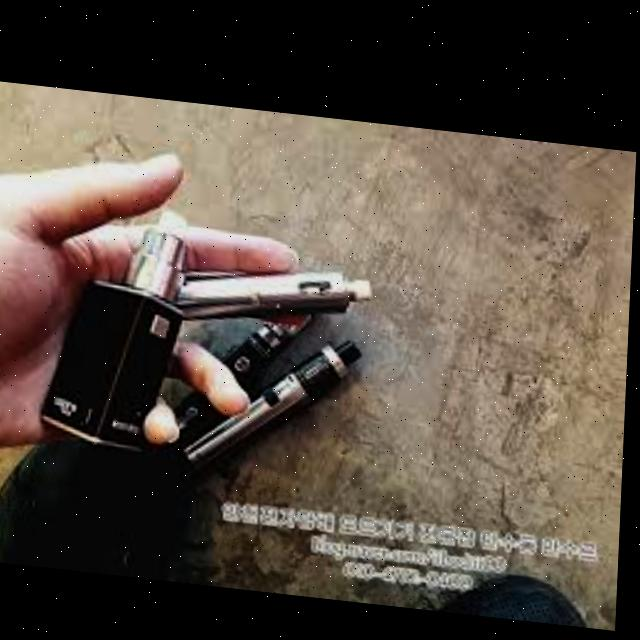vape: (42, 193, 192, 453), (186, 315, 366, 481), (175, 304, 306, 449), (181, 249, 376, 331)
